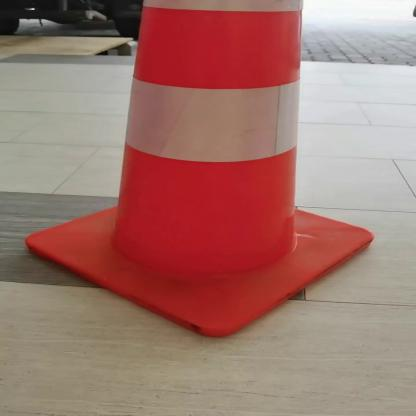cone: (18, 0, 373, 345)
